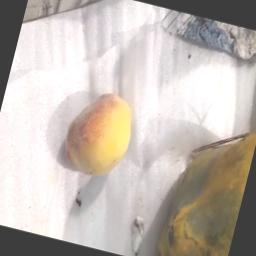Peach Ripe: (40, 66, 157, 194)
